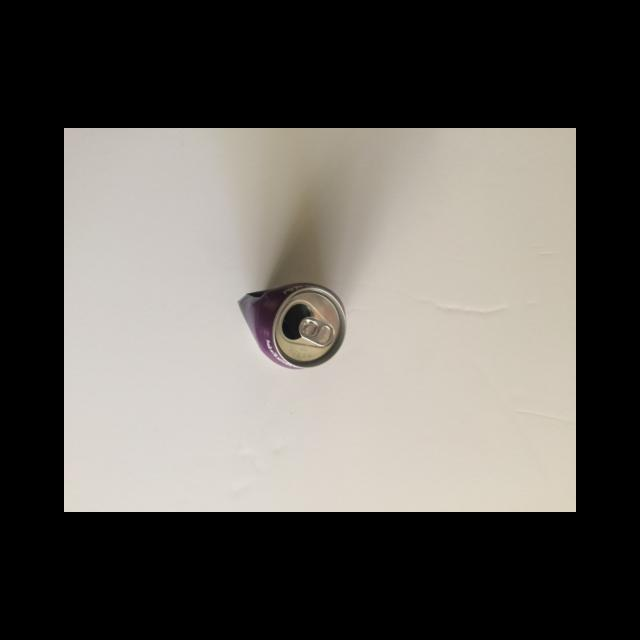metal: (236, 283, 347, 367)
